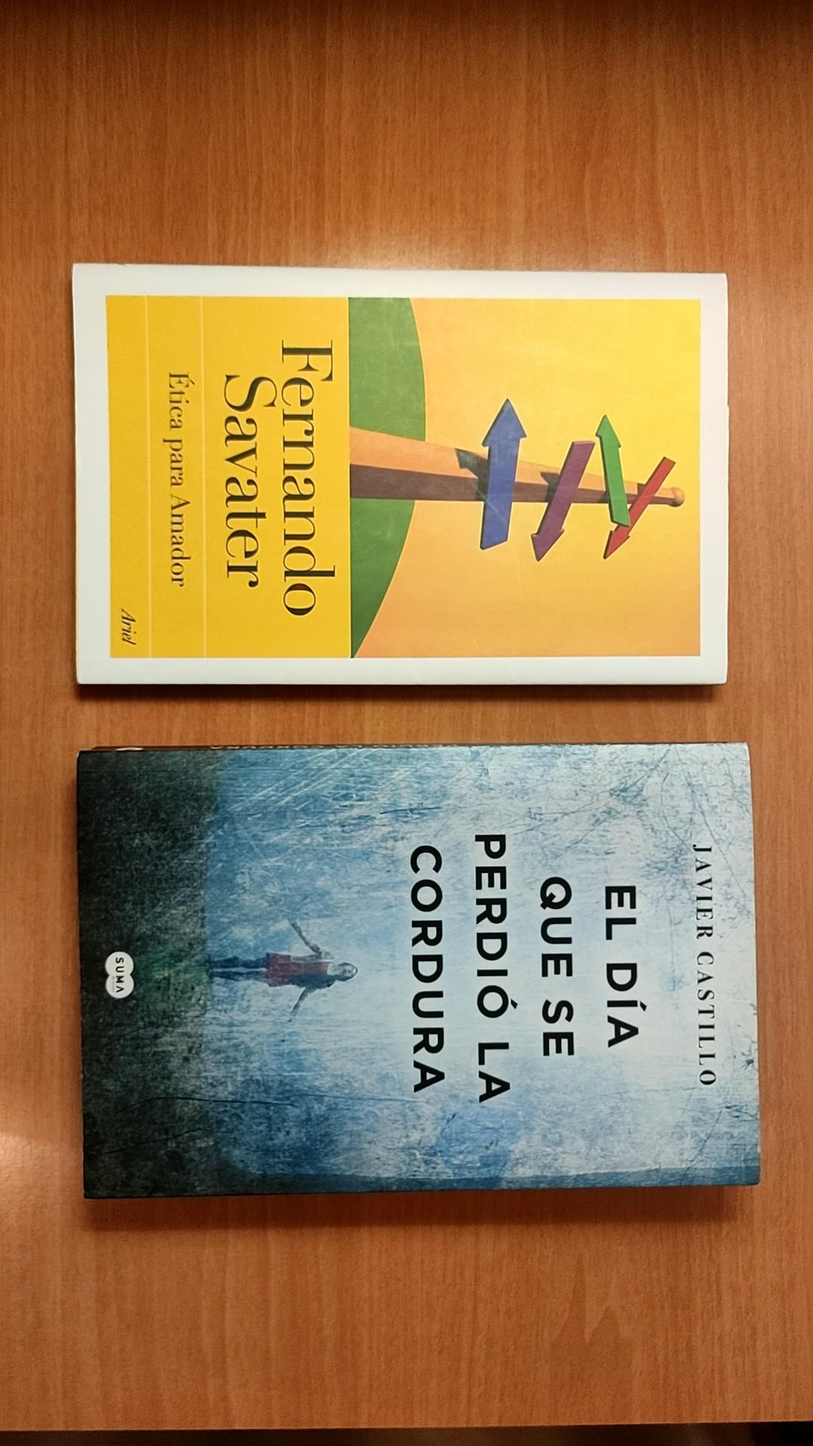book: (74, 730, 761, 1199), (73, 264, 728, 702)
